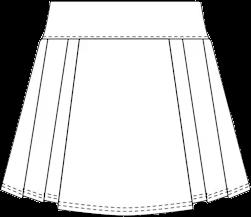Hemline: (0, 188, 250, 216)
Waistline: (41, 34, 209, 39), (49, 0, 200, 3)
